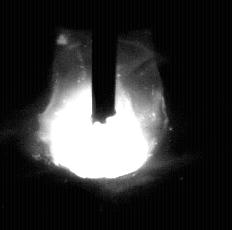arame: (93, 0, 116, 125)
poca: (38, 0, 169, 230)
